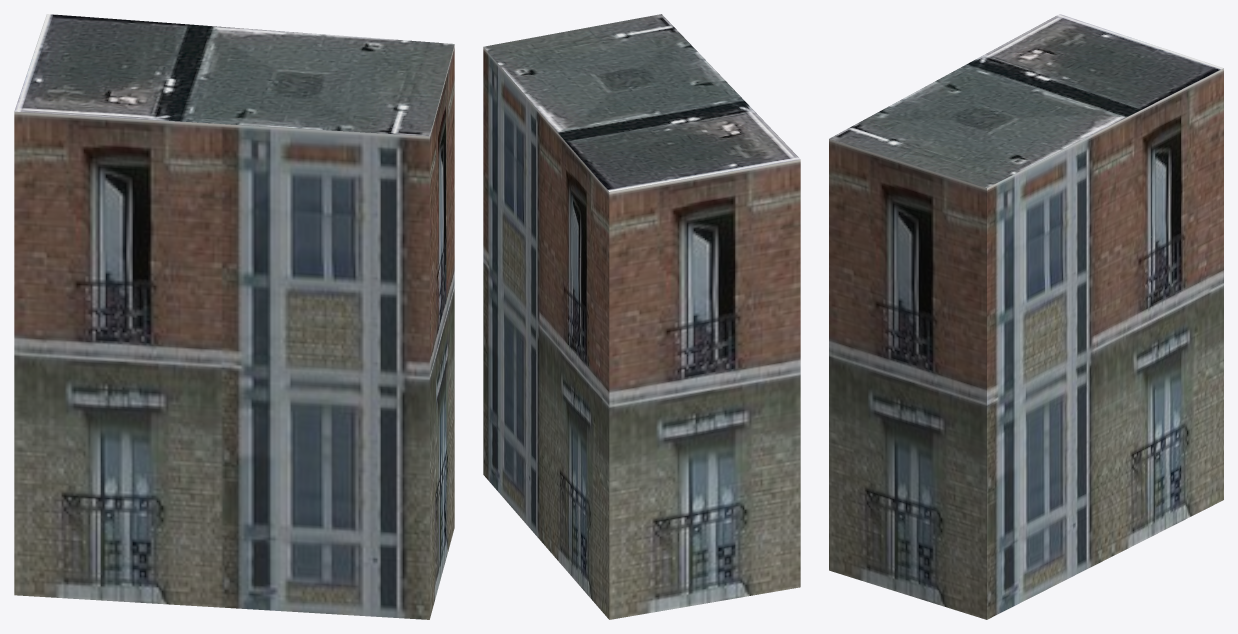
File: RelTex__22.fbx
3 views of the same model, side by side, from view 1: azimuth 30°, elevation 25°; view 2: azimuth 150°, elevation 25°; view 3: azimuth 270°, elevation 25° (orthographic). The views are drawn at different scales.
Visible parts, largest first — view 1: CityEngineMaterial_9_m, CityEngineMaterial_31_m; view 2: CityEngineMaterial_9_m, CityEngineMaterial_31_m; view 3: CityEngineMaterial_9_m, CityEngineMaterial_31_m.
Boxes of the visible parts, <box> form: CityEngineMaterial_9_m: <box>14,45,454,619</box>; CityEngineMaterial_31_m: <box>14,14,454,136</box>; CityEngineMaterial_9_m: <box>483,47,800,619</box>; CityEngineMaterial_31_m: <box>483,14,800,191</box>; CityEngineMaterial_9_m: <box>829,68,1223,619</box>; CityEngineMaterial_31_m: <box>829,14,1223,187</box>.
Size of the model in its own units: 7.78 by 9 by 7.46.
2 materials, 2 textured.
